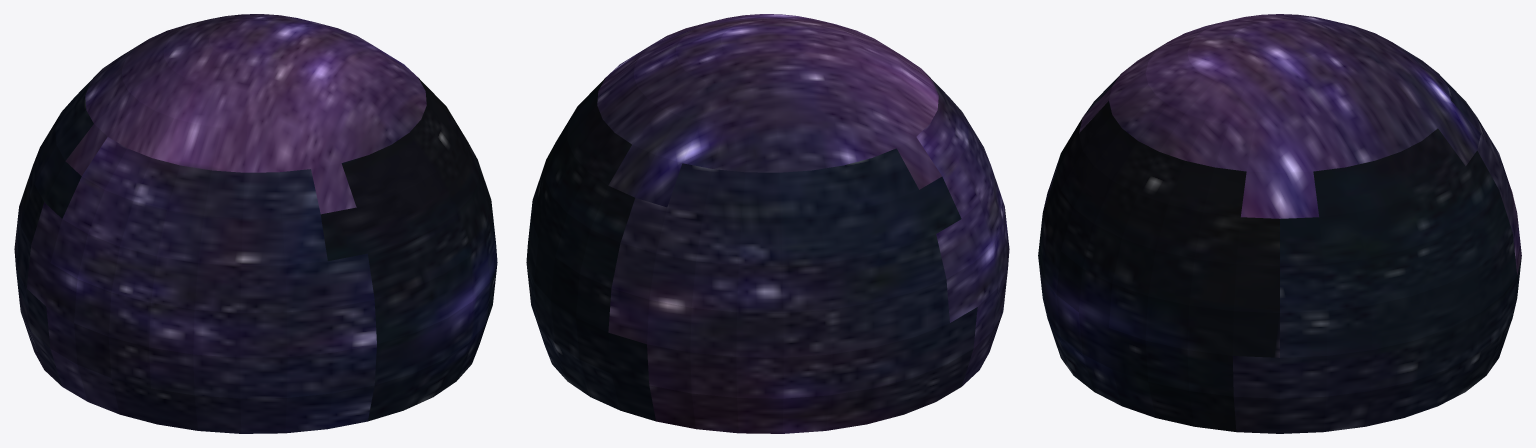
File: skybox.obj
3 renders of one model, left to right at view 1: azimuth 30°, elevation 25°; view 2: azimuth 150°, elevation 25°; view 3: azimuth 270°, elevation 25°, orthographic.
Visible parts, largest first — view 1: Skybox_Sphere.003; view 2: Skybox_Sphere.003; view 3: Skybox_Sphere.003.
Part boxes in pixels (x1=…): Skybox_Sphere.003: x1=14, y1=14, x2=497, y2=433; Skybox_Sphere.003: x1=526, y1=14, x2=1009, y2=433; Skybox_Sphere.003: x1=1038, y1=14, x2=1521, y2=433.
Size of the model in its own units: 24.13 by 16.68 by 24.13.
